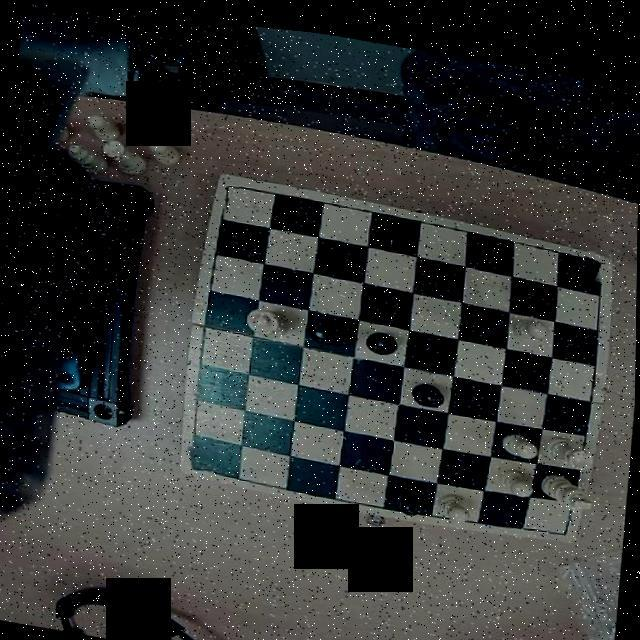chess-table-corners: (182, 438, 215, 474), (217, 170, 249, 207), (578, 236, 611, 270), (548, 502, 578, 530)
